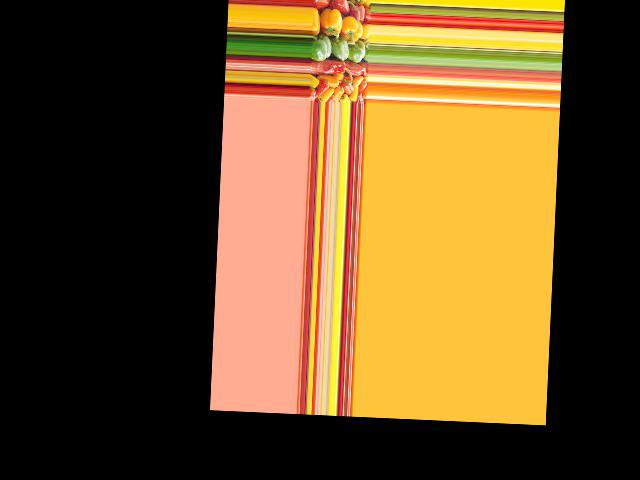bell_pepper: (313, 79, 329, 99)
